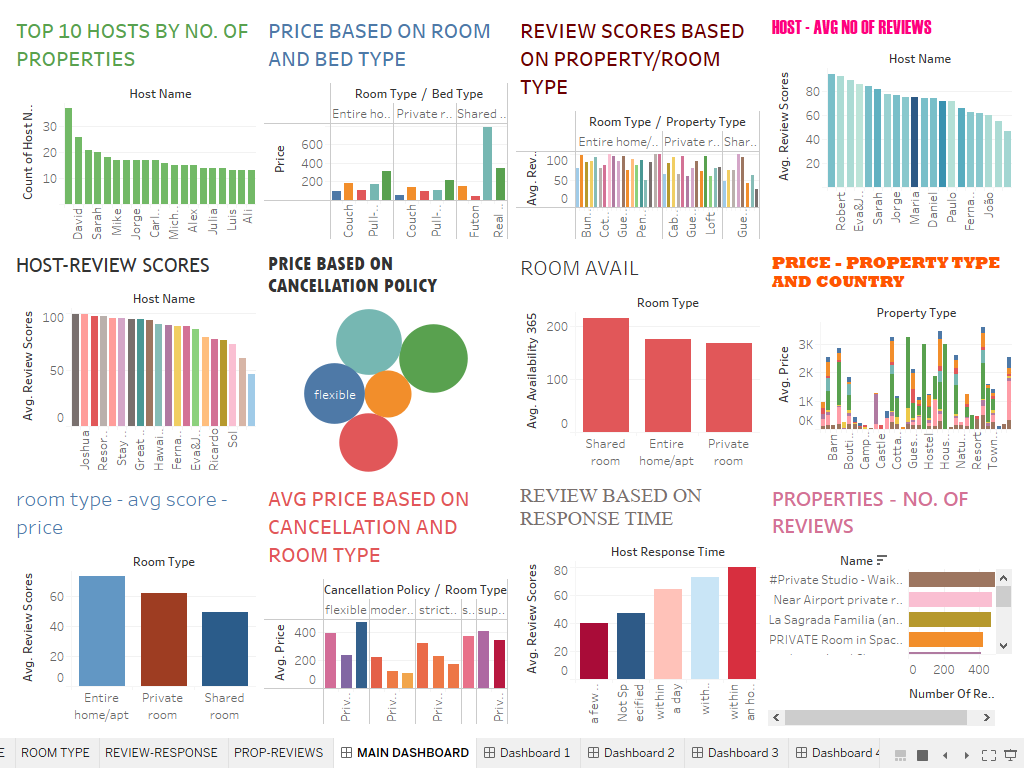

This screenshot's page, from the dashboard's own definition file:
{"tool":"tableau","page":{"name":"MAIN DASHBOARD","canvas":[1000,1000],"units":"permille","ordinal":12},"visuals":[{"type":"worksheet","title":"TOP 10-NO OF PROP","mark":"Automatic","rows":["host_name"],"cols":["host_name"],"box":[7.8,10.8,246.1,321]},{"type":"worksheet","title":"PRICE-ROOM/BED","mark":"Automatic","rows":["price"],"cols":["room_type","bed_type"],"box":[253.9,10.8,246.1,321]},{"type":"worksheet","title":"REVIEW SCORE","mark":"Automatic","rows":["review_scores"],"cols":["room_type","property_type"],"box":[500,10.8,246.1,321]},{"type":"worksheet","title":"TOP 10 HOST","mark":"Automatic","rows":["review_scores"],"cols":["host_name"],"box":[746.1,10.8,246.1,321]},{"type":"worksheet","title":"HOST-REVIEW","mark":"Automatic","rows":["review_scores"],"cols":["host_name"],"box":[7.8,331.8,246.1,312.5]},{"type":"worksheet","title":"PRICE-CANCEL","mark":"Circle","box":[253.9,331.8,246.1,312.5]},{"type":"worksheet","title":"ROOM AVAIL","mark":"Automatic","rows":["availability_365"],"cols":["room_type"],"box":[500,331.8,246.1,312.5]},{"type":"worksheet","title":"PRICE-PROP","mark":"Automatic","rows":["price"],"cols":["property_type"],"box":[746.1,331.8,246.1,312.5]},{"type":"worksheet","title":"ROOM TYPE","mark":"Automatic","rows":["review_scores"],"cols":["room_type"],"box":[7.8,644.4,246.1,344.8]},{"type":"worksheet","title":"AVG PRICE-CANCEL","mark":"Automatic","rows":["price"],"cols":["cancellation_policy","room_type"],"box":[253.9,644.4,246.1,344.8]},{"type":"worksheet","title":"REVIEW-RESPONSE","mark":"Automatic","rows":["review_scores"],"cols":["host_response_time"],"box":[500,644.4,246.1,344.8]},{"type":"worksheet","title":"PROP-REVIEWS","mark":"Automatic","rows":["name"],"cols":["number_of_reviews"],"box":[746.1,644.4,246.1,344.8]}]}

Visuals, with their boxes on the dashboard's canvas, which has no fixed pixel size, in thousandths of its width and height (x1, y1, x2, y2). These are canvas units, not pixel positions in the 1024x768 screenshot, which may show the page scaled, cropped or inside an application window:
"TOP 10-NO OF PROP" worksheet: locate(8, 11, 254, 332)
"PRICE-ROOM/BED" worksheet: locate(254, 11, 500, 332)
"REVIEW SCORE" worksheet: locate(500, 11, 746, 332)
"TOP 10 HOST" worksheet: locate(746, 11, 992, 332)
"HOST-REVIEW" worksheet: locate(8, 332, 254, 644)
"PRICE-CANCEL" worksheet (Circle marks): locate(254, 332, 500, 644)
"ROOM AVAIL" worksheet: locate(500, 332, 746, 644)
"PRICE-PROP" worksheet: locate(746, 332, 992, 644)
"ROOM TYPE" worksheet: locate(8, 644, 254, 989)
"AVG PRICE-CANCEL" worksheet: locate(254, 644, 500, 989)
"REVIEW-RESPONSE" worksheet: locate(500, 644, 746, 989)
"PROP-REVIEWS" worksheet: locate(746, 644, 992, 989)
